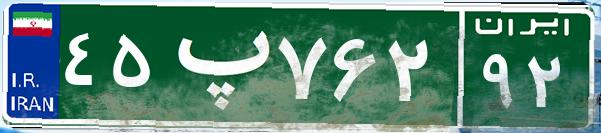2: (385, 28, 445, 110), (525, 38, 570, 115)
4: (57, 26, 110, 107)
5: (110, 28, 158, 105)
6: (330, 28, 385, 110)
7: (273, 28, 330, 110)
9: (475, 38, 525, 113)
پ: (158, 15, 273, 115)
